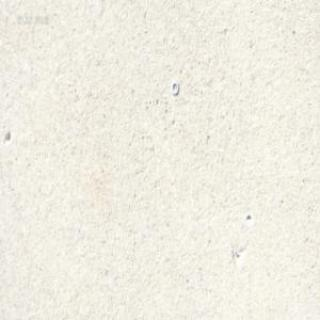Washertrack_idkeyframe: (170, 80, 178, 94)
